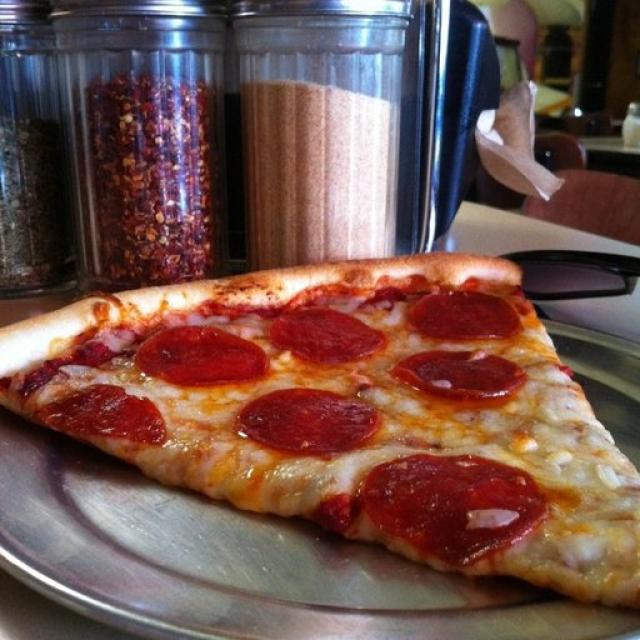Pepperoni: (361, 456, 552, 563), (134, 321, 265, 387), (237, 392, 378, 453), (266, 305, 394, 370), (407, 348, 524, 412), (414, 280, 518, 345), (58, 381, 164, 442)
Pizza: (0, 252, 640, 607)
